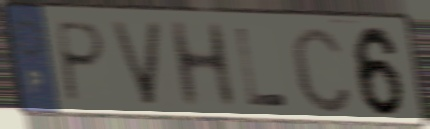6: (351, 22, 411, 119)
C: (287, 22, 356, 117)
H: (164, 18, 241, 112)
L: (232, 25, 291, 109)
P: (55, 18, 109, 105)
V: (105, 18, 166, 109)
